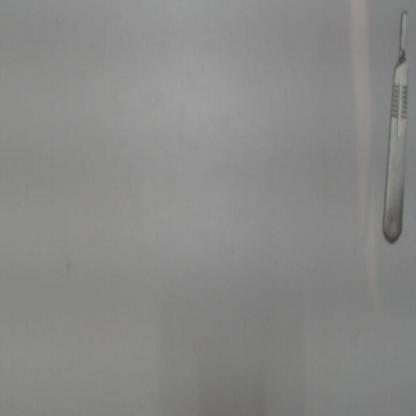No.4 BP Handle: (375, 8, 411, 252)
